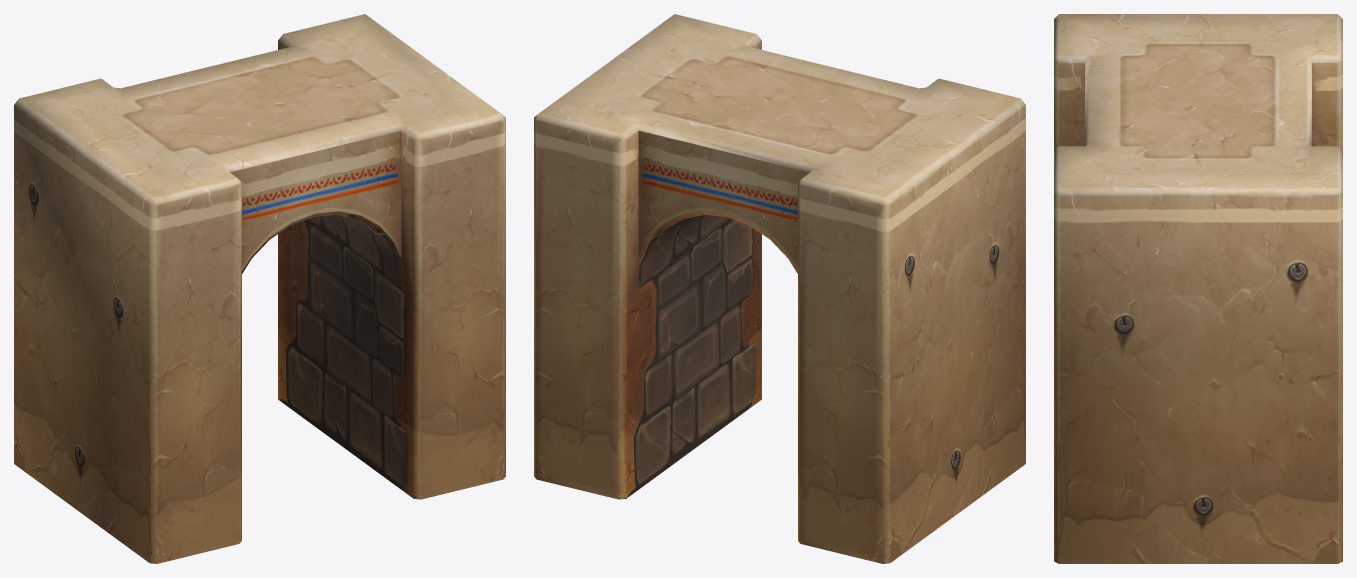
Rendered from DE_House_Mod_Part_55.fbx.
The picture shows the model from 3 angles, left to right: view 1: azimuth 30°, elevation 25°; view 2: azimuth 150°, elevation 25°; view 3: azimuth 270°, elevation 25°; orthographic projection. The views are drawn at different scales.
Visible parts, largest first — view 1: DE_House_Mod_Part_55; view 2: DE_House_Mod_Part_55; view 3: DE_House_Mod_Part_55.
Part boxes in pixels (x1,y1,x2,y2): DE_House_Mod_Part_55: (14,14,505,563); DE_House_Mod_Part_55: (534,14,1025,563); DE_House_Mod_Part_55: (1054,14,1342,563).
Size of the model in its own units: 10.8 by 10.56 by 7.39.
